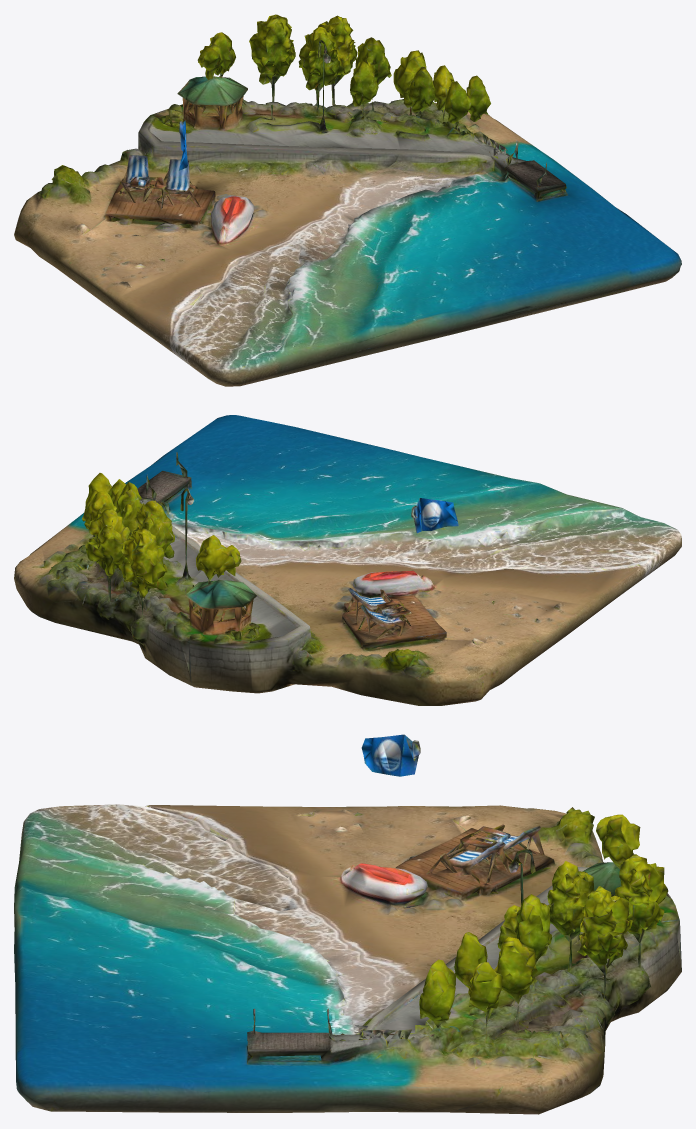
Rendered from city_ordu_beach_front.glb.
3 renders of one model, top to bottom at view 1: azimuth 30°, elevation 25°; view 2: azimuth 150°, elevation 25°; view 3: azimuth 270°, elevation 25°, orthographic. The views are drawn at different scales.
Visible parts, largest first — view 1: Mesh1.0; view 2: Mesh1.0; view 3: Mesh1.0.
Part boxes in pixels (<box>): Mesh1.0: <box>14,14,681,386</box>; Mesh1.0: <box>14,415,681,705</box>; Mesh1.0: <box>14,734,681,1114</box>.
Bounding box in the file's own units: 9.43 × 2.6 × 9.23.
Materials: 1 (1 with a texture image).
